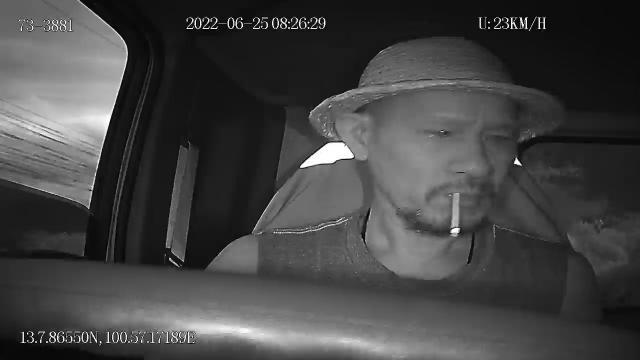SafeDriving: (417, 120, 461, 142)
Smoking: (450, 190, 462, 238)
